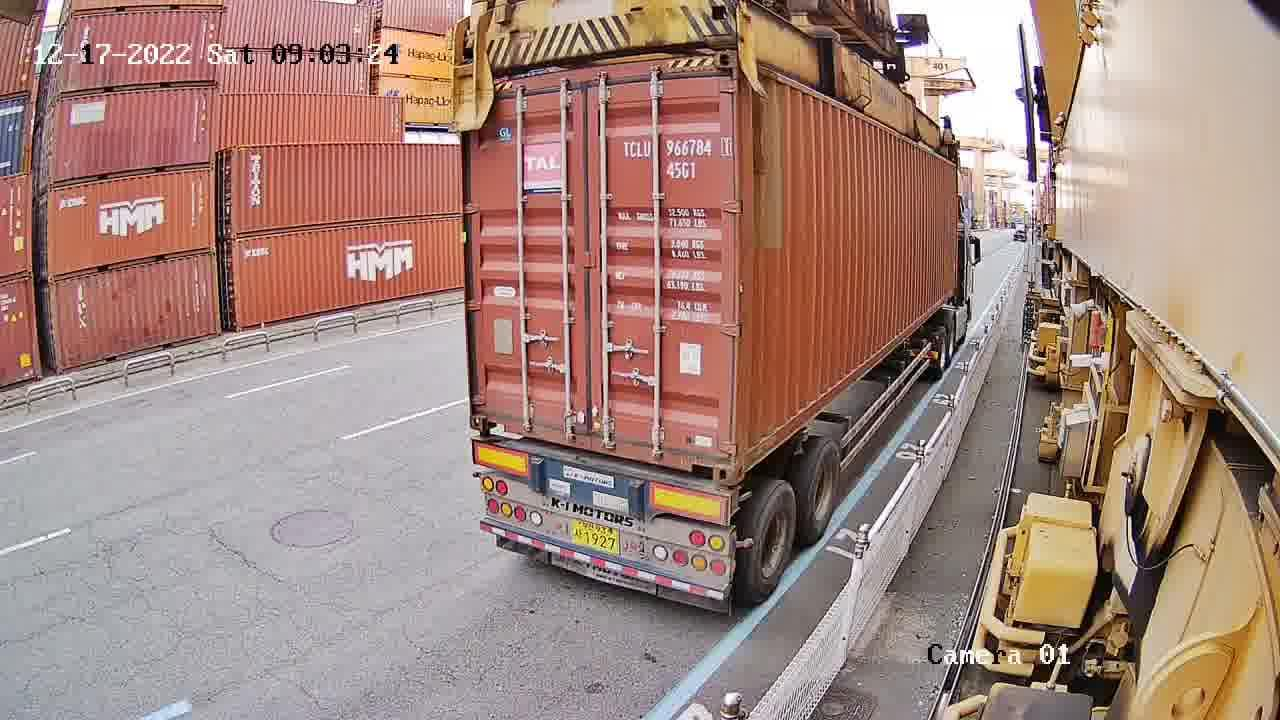Chassis: (471, 439, 733, 528)
Container: (467, 398, 735, 487)
Hole_L: (469, 398, 503, 436)
Hole_R: (697, 440, 734, 484)
Tire: (744, 483, 795, 600), (805, 441, 844, 543)
